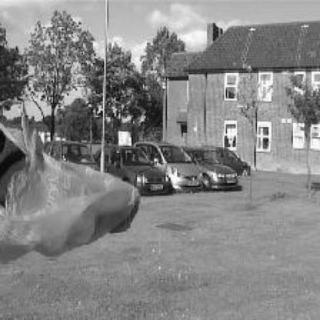other: (0, 90, 143, 262)
